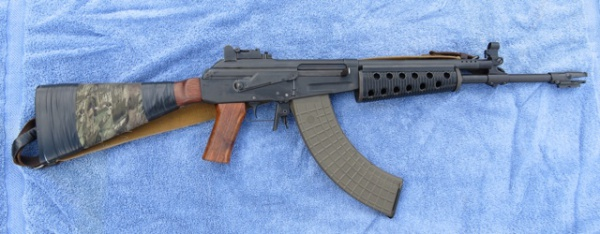ak47: (34, 42, 586, 218)
